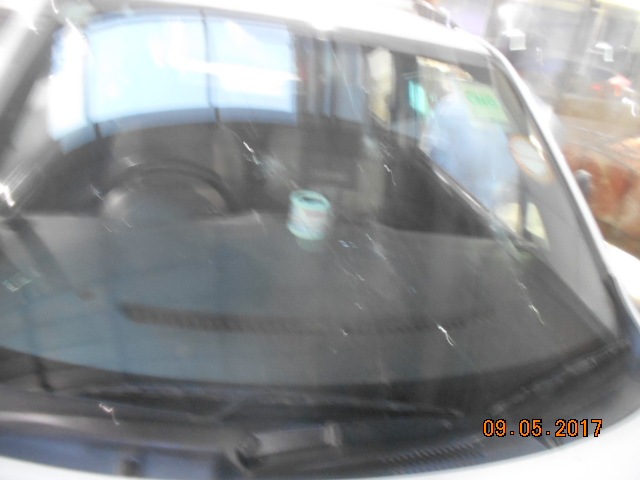Shatter: (348, 120, 402, 210), (369, 234, 396, 276)
